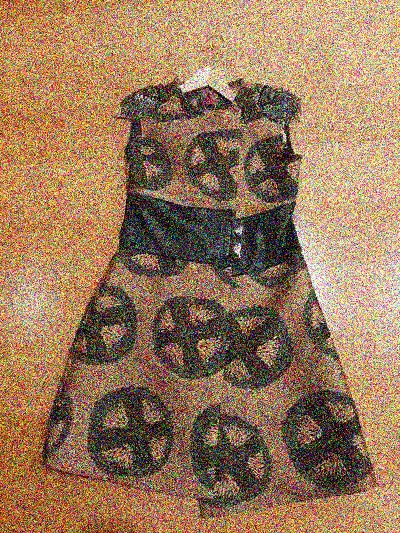Dress: (27, 56, 390, 514)
